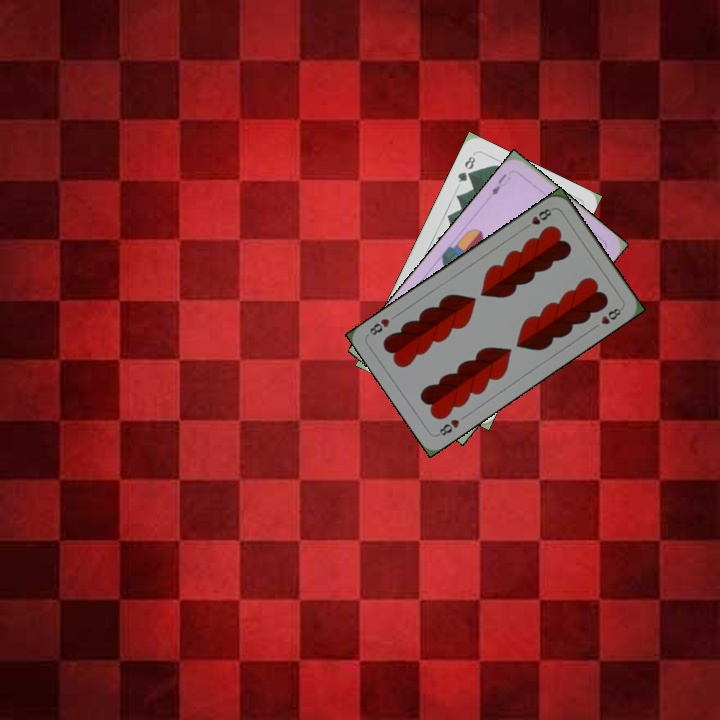EU: (487, 169, 514, 198)
G8: (453, 150, 478, 185)
H8: (520, 204, 556, 232), (433, 415, 462, 439)
